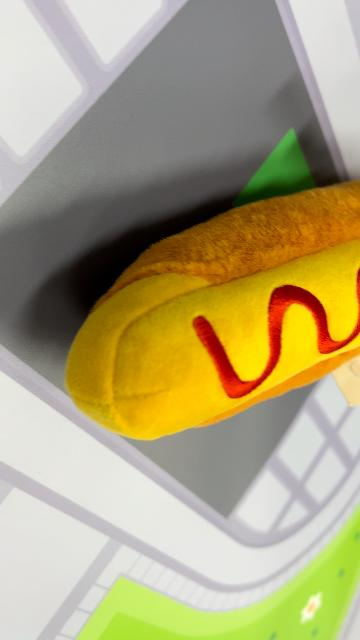hotdog: (64, 179, 358, 443)
